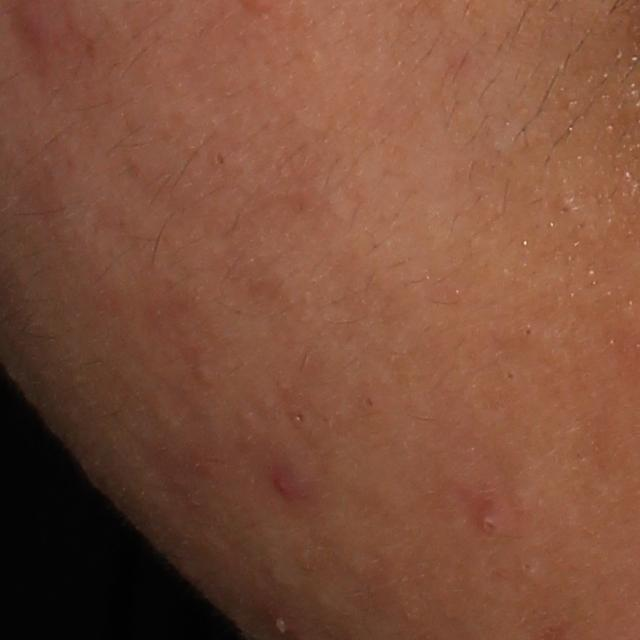comedo: (212, 150, 226, 170), (519, 324, 537, 339), (501, 369, 518, 384)
papule: (19, 1, 61, 53), (462, 493, 507, 539), (274, 475, 297, 502)
